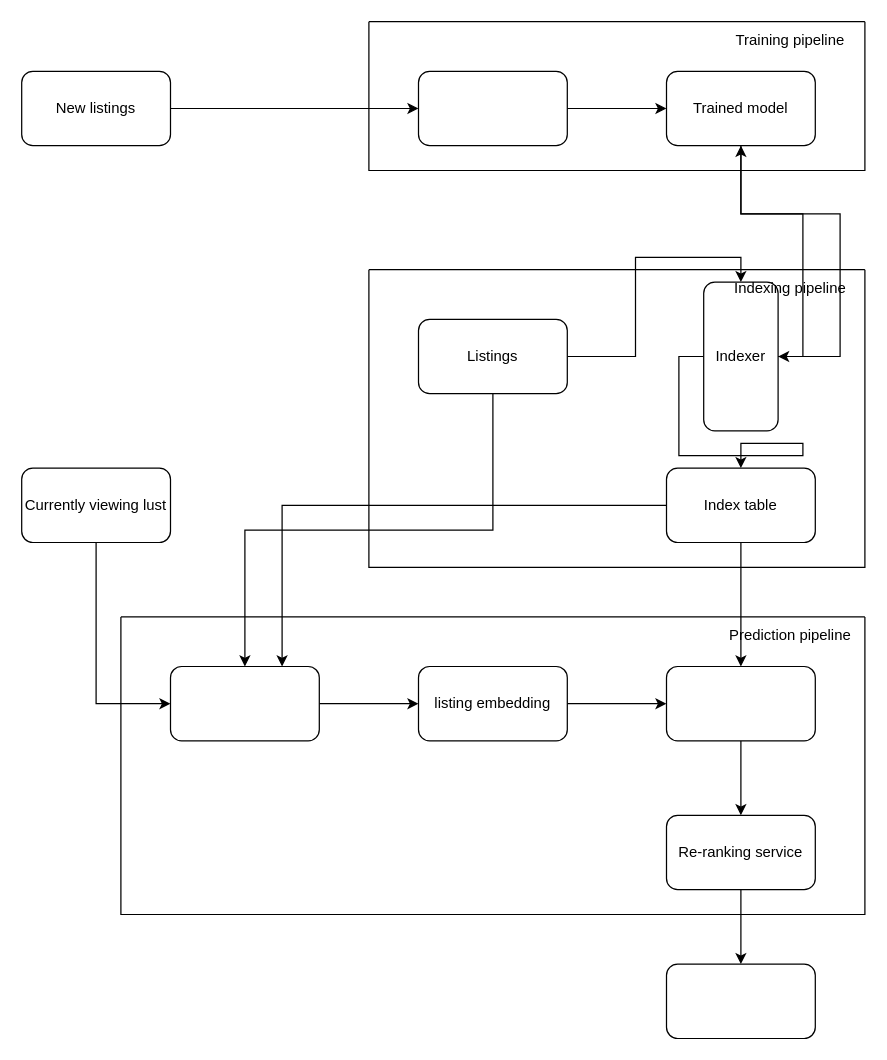
Image size: 887x1060. Some labels were removed from this diagram. Each missing label, with the centre of its shape:
"Embedding fetcher service" belongs at pixel 244 703.
"Model fine-tuning" belongs at pixel 492 108.
"Nearest neighbor service" belongs at pixel 740 703.
"Recommended similar listings" belongs at pixel 740 1000.
